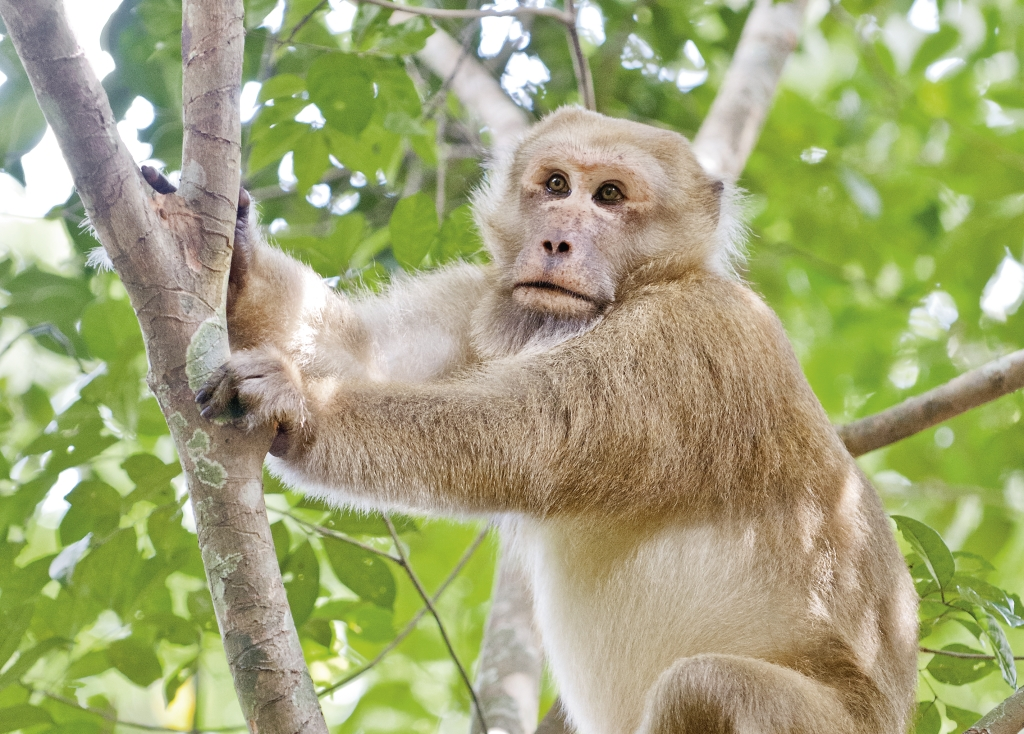monkey: (133, 93, 960, 734)
